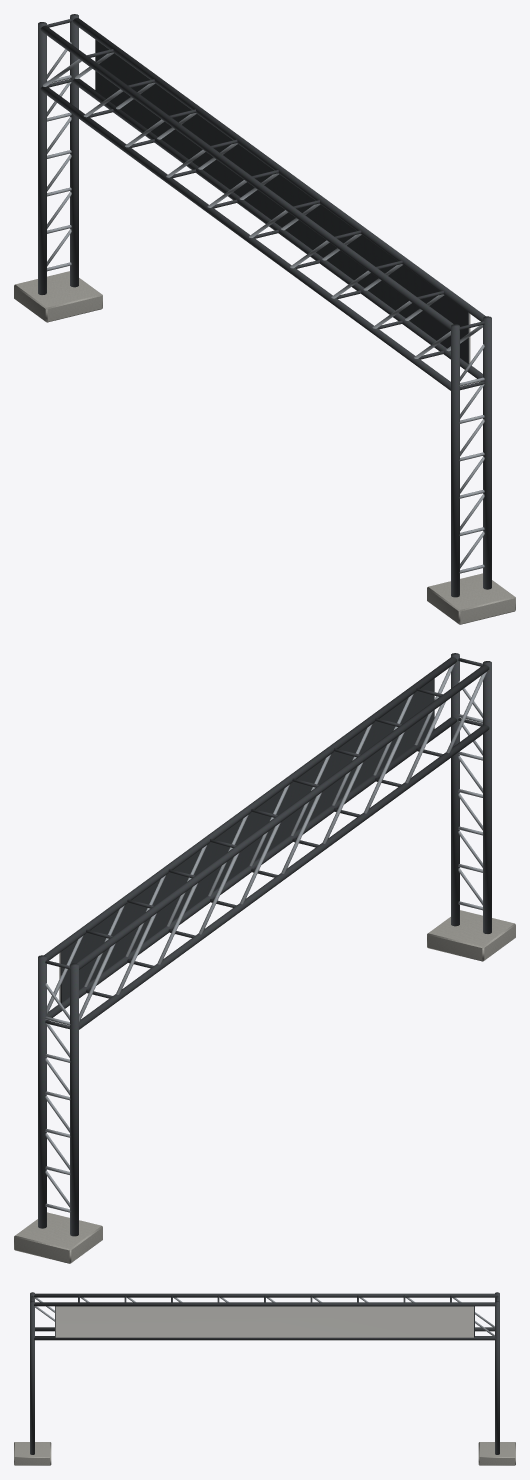
The model's file is bridge-banner_high.glb.
The picture shows the model from 3 angles, top to bottom: view 1: azimuth 30°, elevation 25°; view 2: azimuth 150°, elevation 25°; view 3: azimuth 270°, elevation 25°; orthographic projection. The views are drawn at different scales.
Visible parts, largest first — view 1: dark-steel, galvanised, concrete; view 2: dark-steel, galvanised, concrete; view 3: board-face, dark-steel, concrete, galvanised.
Part boxes in pixels (x1=…): dark-steel: x1=38, y1=14, x2=491, y2=597; galvanised: x1=43, y1=41, x2=484, y2=573; concrete: x1=14, y1=271, x2=515, y2=624; dark-steel: x1=38, y1=653, x2=491, y2=1236; galvanised: x1=45, y1=664, x2=486, y2=1212; concrete: x1=14, y1=910, x2=515, y2=1263; board-face: x1=55, y1=1306, x2=473, y2=1337; dark-steel: x1=30, y1=1292, x2=499, y2=1454; concrete: x1=14, y1=1442, x2=515, y2=1465; galvanised: x1=34, y1=1297, x2=495, y2=1336.
Size of the model in its own units: 1.6 by 7.6 by 21.6.
4 materials, 3 textured.
